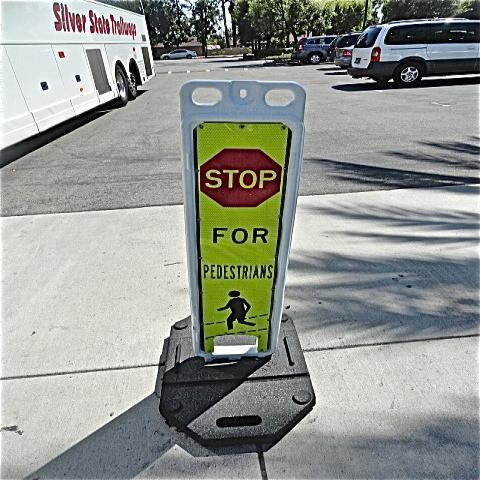bus: (2, 3, 161, 152)
car: (348, 18, 479, 85), (293, 37, 339, 65), (334, 46, 353, 68), (158, 50, 197, 60)
